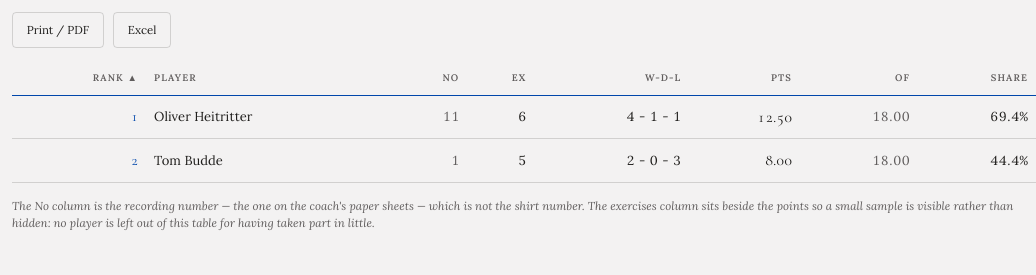
Scenario: taking the board off the screen › says so when the spreadsheet library has not loaded
This screenshot has width=1036, height=275.
Step 1. Click the button "Excel" → (142, 30), box [113,12,171,48]
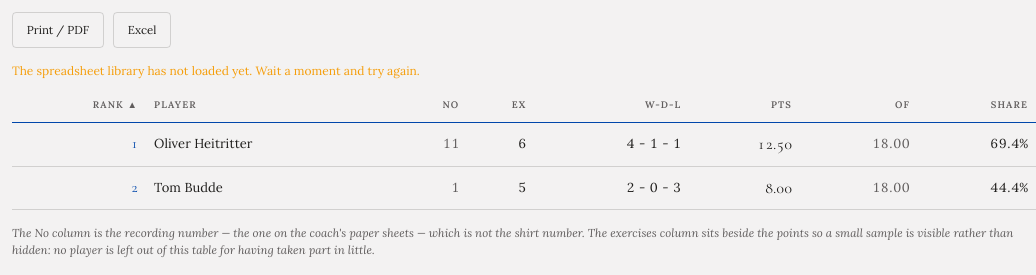
Now the message "The spreadsheet library has not loaded yet. Wait a moment and try again." is shown, box [12,63,420,78]
